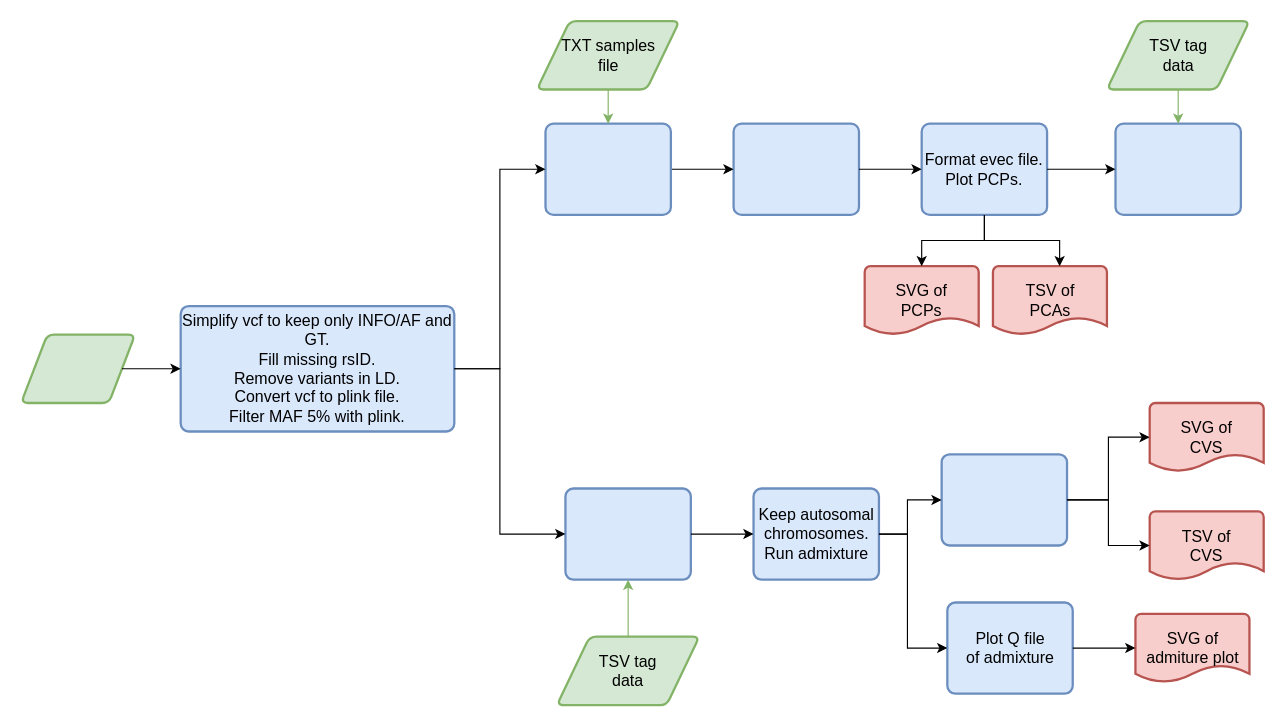
This 1284x725 diagram has some shape labels left out. The centre of each missing label's shape, as x and y in pixels:
Make cvs TSV and plot: (1004,499)
Make par file. Run smartpca. Get best snps.: (796,168)
Make pedind.: (607,168)
Make pop_info: (627,533)
Plot regional PCAs: (1177,168)
VCF file: (77,368)
